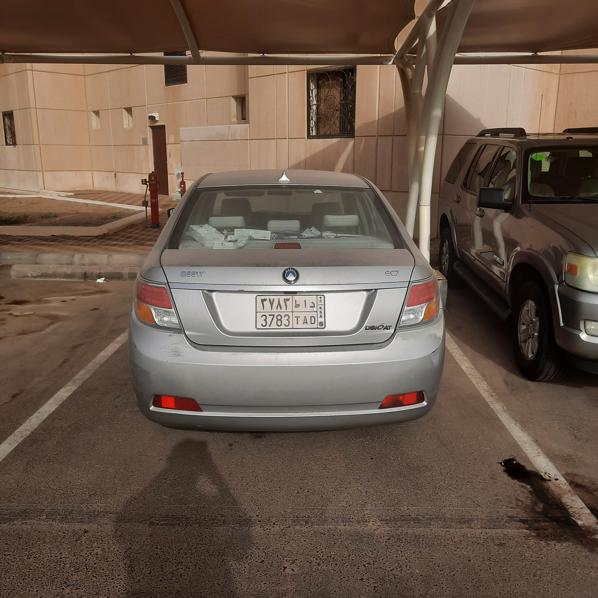numberplate: (255, 294, 327, 328)
